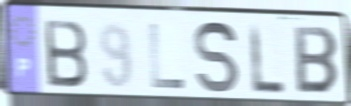9: (97, 20, 135, 91)
B: (41, 17, 90, 90), (293, 24, 341, 97)
L: (247, 21, 288, 96), (146, 21, 187, 91)
S: (192, 19, 242, 97)
